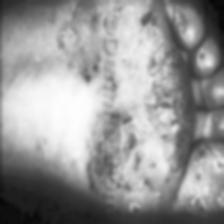Non-Cancerous Skin Condition: (116, 0, 224, 207), (62, 8, 102, 186)
